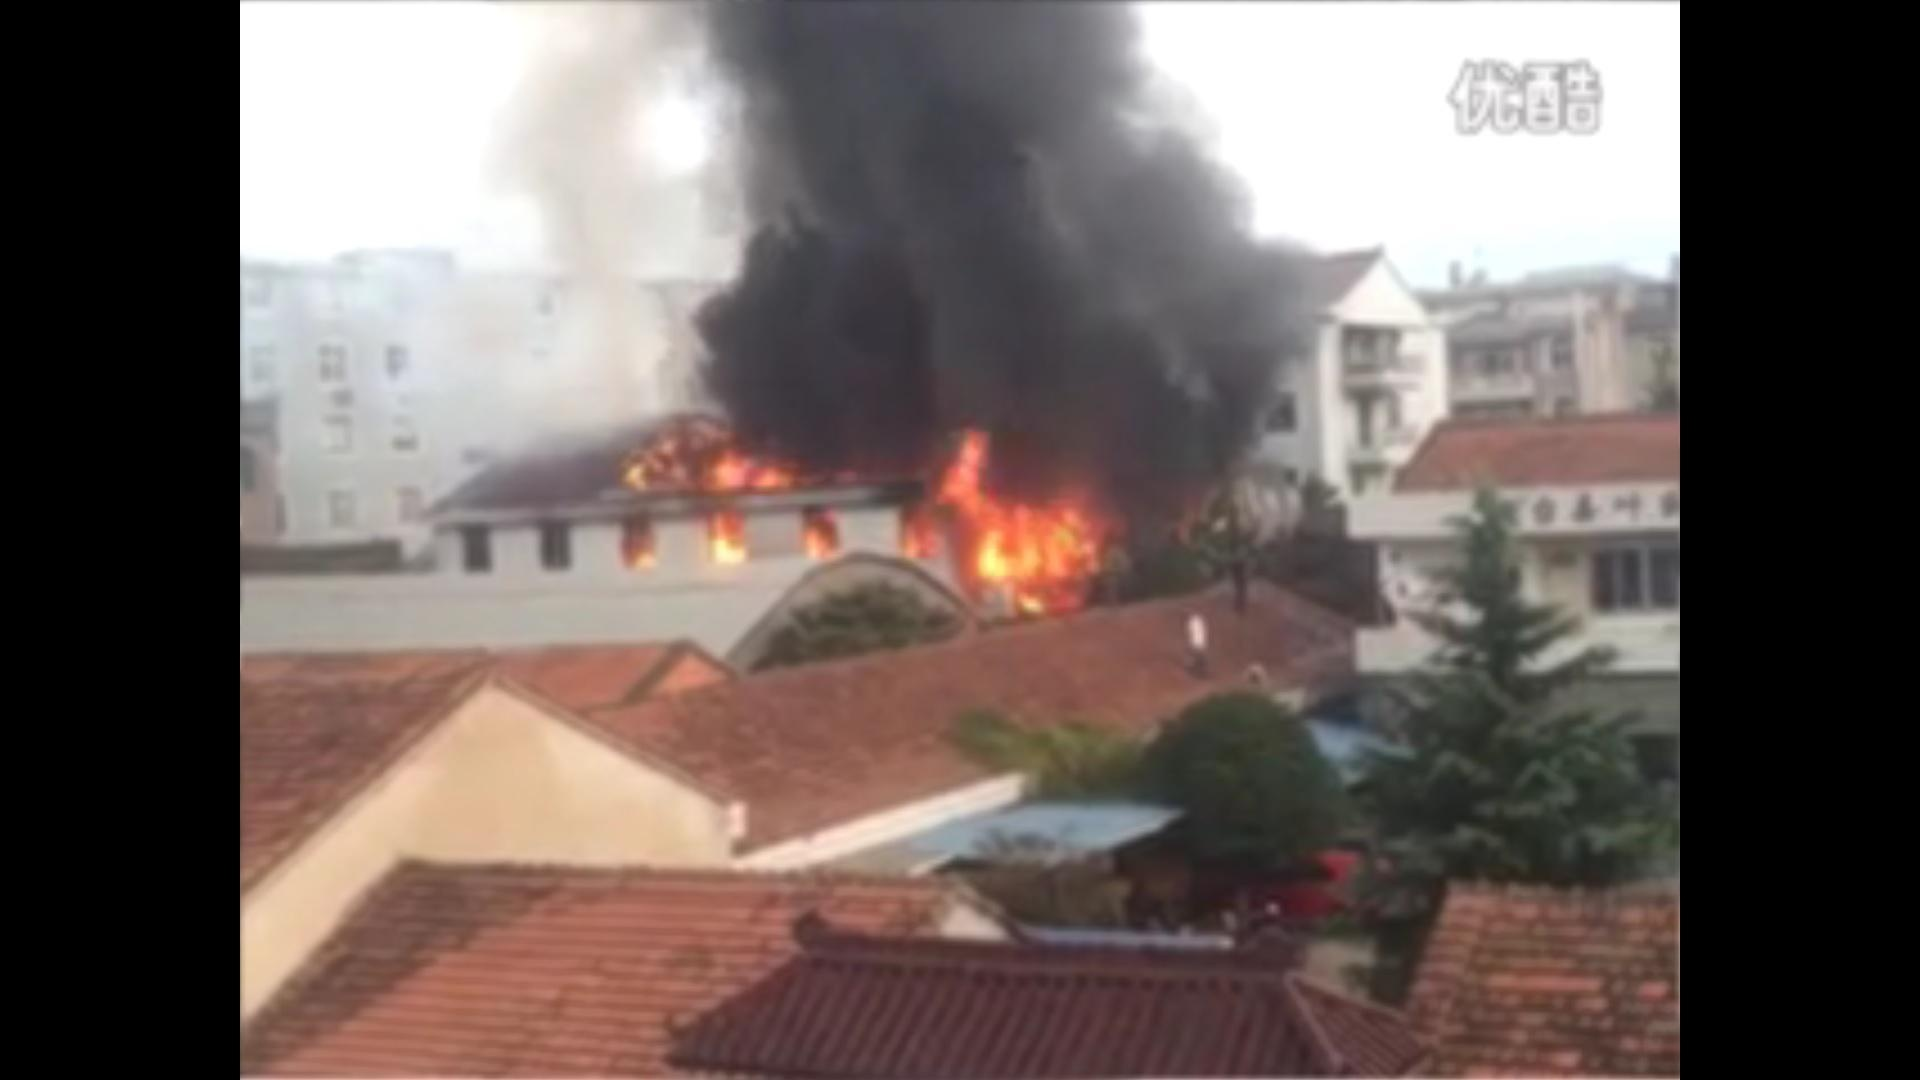fire: (920, 448, 1113, 612), (625, 440, 848, 572)
